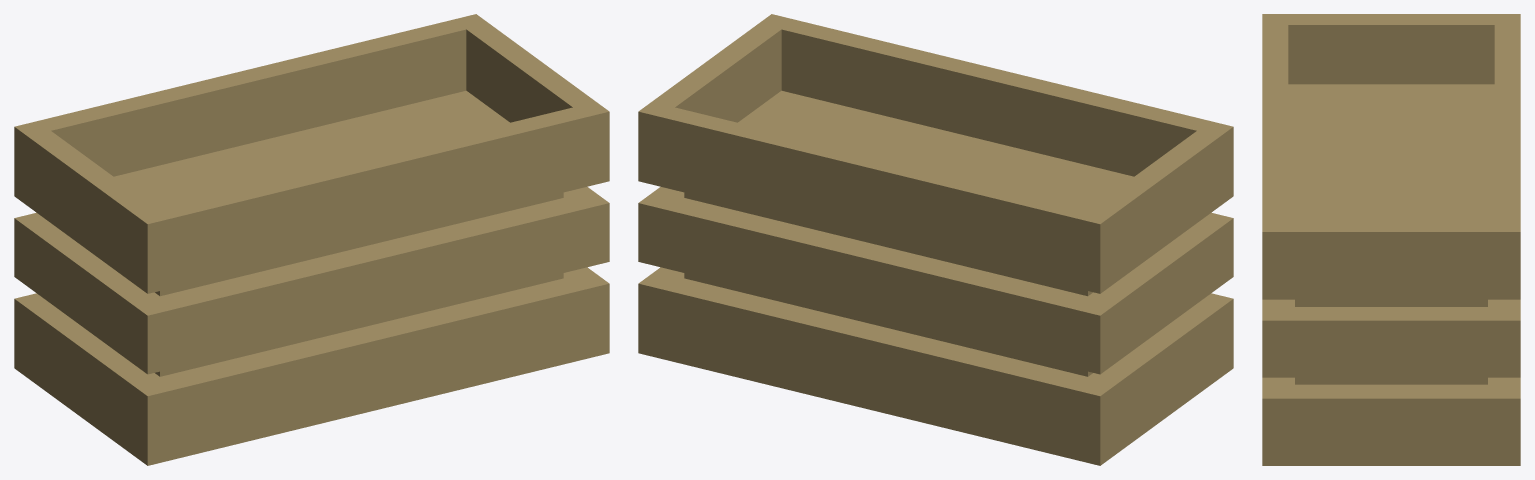
The model's file is PotB.fbx.
3 views of the same model, side by side, from view 1: azimuth 30°, elevation 25°; view 2: azimuth 150°, elevation 25°; view 3: azimuth 270°, elevation 25° (orthographic). The views are drawn at different scales.
Parts seen in each view (by area): view 1: PotB; view 2: PotB; view 3: PotB.
Boxes of the visible parts, x1=… form: PotB: x1=14, y1=14, x2=609, y2=465; PotB: x1=638, y1=14, x2=1233, y2=465; PotB: x1=1262, y1=14, x2=1520, y2=465.
Bounding box in the file's own units: 160 × 80 × 80.
